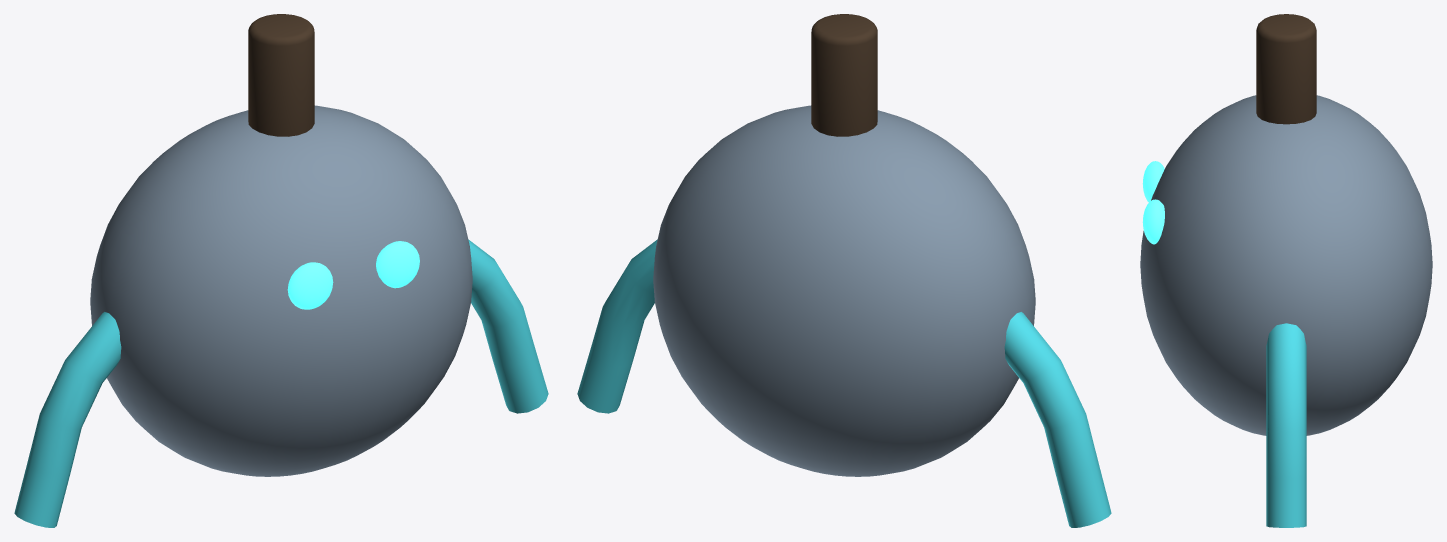
Rendered from plant_v7.glb.
The picture shows the model from 3 angles, left to right: view 1: azimuth 30°, elevation 25°; view 2: azimuth 150°, elevation 25°; view 3: azimuth 270°, elevation 25°; orthographic projection. The views are drawn at different scales.
Parts seen in each view (by area): view 1: PUMPKIN_BODY_PRIMARY, PUMPKIN_ARM_ACCENT, PUMPKIN_STEM_SECONDARY, PUMPKIN_ARM_ACCENT.001, EYE_EMISSIVE, EYE_EMISSIVE.001; view 2: PUMPKIN_BODY_PRIMARY, PUMPKIN_ARM_ACCENT, PUMPKIN_STEM_SECONDARY, PUMPKIN_ARM_ACCENT.001; view 3: PUMPKIN_BODY_PRIMARY, PUMPKIN_ARM_ACCENT.001, PUMPKIN_STEM_SECONDARY, EYE_EMISSIVE.001, EYE_EMISSIVE.
Boxes of the visible parts, box(x1,y1,x2,y2) form: PUMPKIN_BODY_PRIMARY: box(90, 105, 472, 476); PUMPKIN_ARM_ACCENT: box(14, 312, 121, 527); PUMPKIN_STEM_SECONDARY: box(248, 14, 314, 136); PUMPKIN_ARM_ACCENT.001: box(468, 239, 548, 413); EYE_EMISSIVE: box(287, 262, 333, 309); EYE_EMISSIVE.001: box(376, 241, 419, 288); PUMPKIN_BODY_PRIMARY: box(653, 105, 1035, 476); PUMPKIN_ARM_ACCENT: box(1004, 312, 1111, 527); PUMPKIN_STEM_SECONDARY: box(811, 14, 877, 136); PUMPKIN_ARM_ACCENT.001: box(577, 239, 657, 413); PUMPKIN_BODY_PRIMARY: box(1140, 95, 1432, 435); PUMPKIN_ARM_ACCENT.001: box(1266, 323, 1306, 527); PUMPKIN_STEM_SECONDARY: box(1256, 14, 1316, 124); EYE_EMISSIVE.001: box(1142, 199, 1164, 244); EYE_EMISSIVE: box(1142, 161, 1164, 202).
Bounding box in the file's own units: 2.19 × 1.75 × 1.16.
